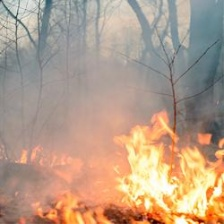fire: (114, 118, 224, 221)
smoke: (25, 16, 121, 177)
